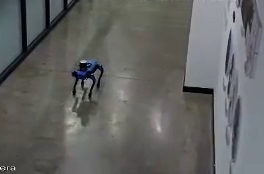robot dog: (69, 56, 104, 104)
